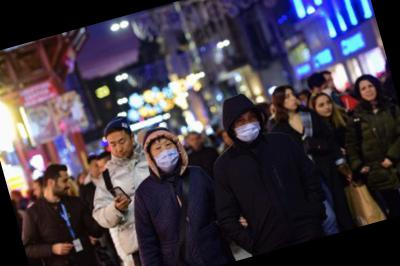with_mask: (149, 137, 184, 174), (230, 110, 265, 145)
without_mask: (107, 134, 135, 161), (50, 175, 74, 201), (280, 89, 301, 114), (314, 97, 336, 119), (358, 81, 379, 103), (188, 132, 203, 150)
